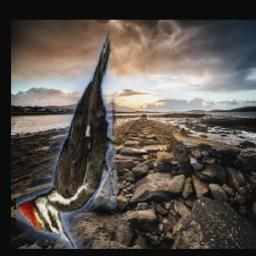Woodpecker: (16, 23, 116, 249)
